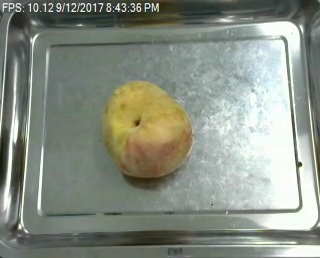Peach: (102, 80, 193, 179)
